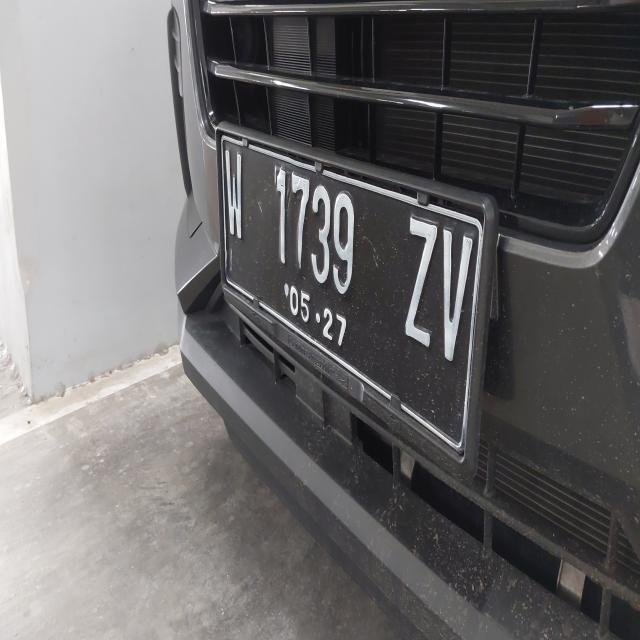1: (266, 157, 292, 268)
3: (305, 172, 341, 308)
7: (288, 163, 312, 289)
9: (331, 180, 364, 311)
V: (436, 211, 478, 378)
W: (219, 141, 256, 250)
Z: (398, 197, 444, 376)
